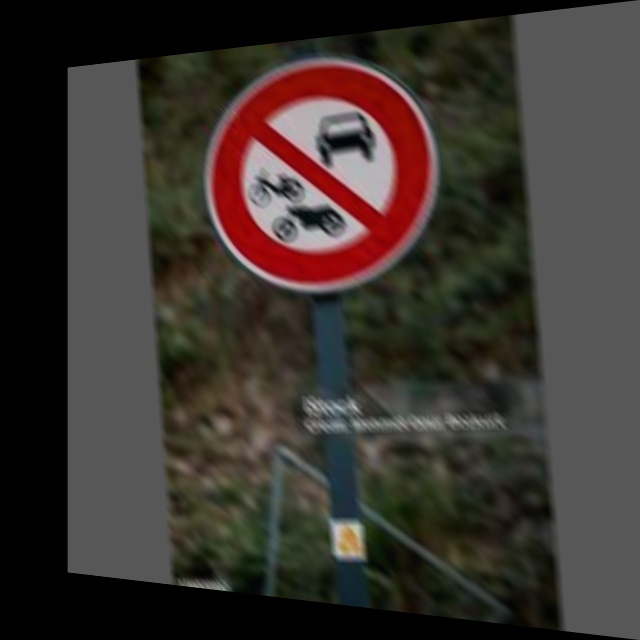All_Motor_Vehicles_Prohibited: (196, 32, 442, 298)
